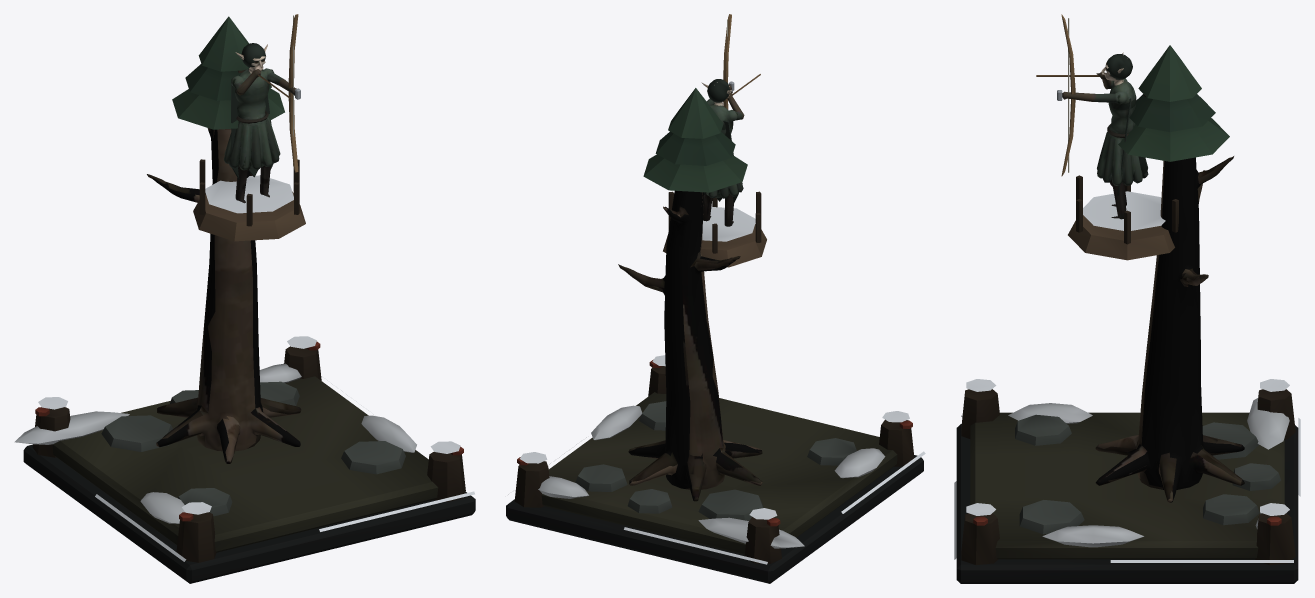
File: sylvestres-8.glb
3 views of the same model, side by side, from view 1: azimuth 30°, elevation 25°; view 2: azimuth 150°, elevation 25°; view 3: azimuth 270°, elevation 25° (orthographic). The views are drawn at different scales.
Visible parts, largest first — view 1: lunebois_8_architecture, lunebois_8_arbre, lunebois_8_elfe, lunebois_8_elfe_accessoires; view 2: lunebois_8_architecture, lunebois_8_arbre, lunebois_8_elfe, lunebois_8_elfe_accessoires; view 3: lunebois_8_architecture, lunebois_8_arbre, lunebois_8_elfe, lunebois_8_elfe_accessoires.
Boxes of the visible parts, x1,y1,x2,y2 form: lunebois_8_architecture: (14, 16, 475, 583); lunebois_8_arbre: (147, 128, 301, 463); lunebois_8_elfe: (223, 43, 296, 203); lunebois_8_elfe_accessoires: (231, 14, 300, 179); lunebois_8_architecture: (506, 88, 925, 583); lunebois_8_arbre: (618, 190, 762, 501); lunebois_8_elfe: (701, 82, 744, 226); lunebois_8_elfe_accessoires: (707, 14, 760, 203); lunebois_8_architecture: (954, 45, 1300, 583); lunebois_8_arbre: (1095, 156, 1244, 502); lunebois_8_elfe: (1062, 52, 1148, 219); lunebois_8_elfe_accessoires: (1036, 14, 1145, 195).
Bounding box in the file's own units: 0.8655 × 1.31 × 0.811.
3 materials, 2 textured.
